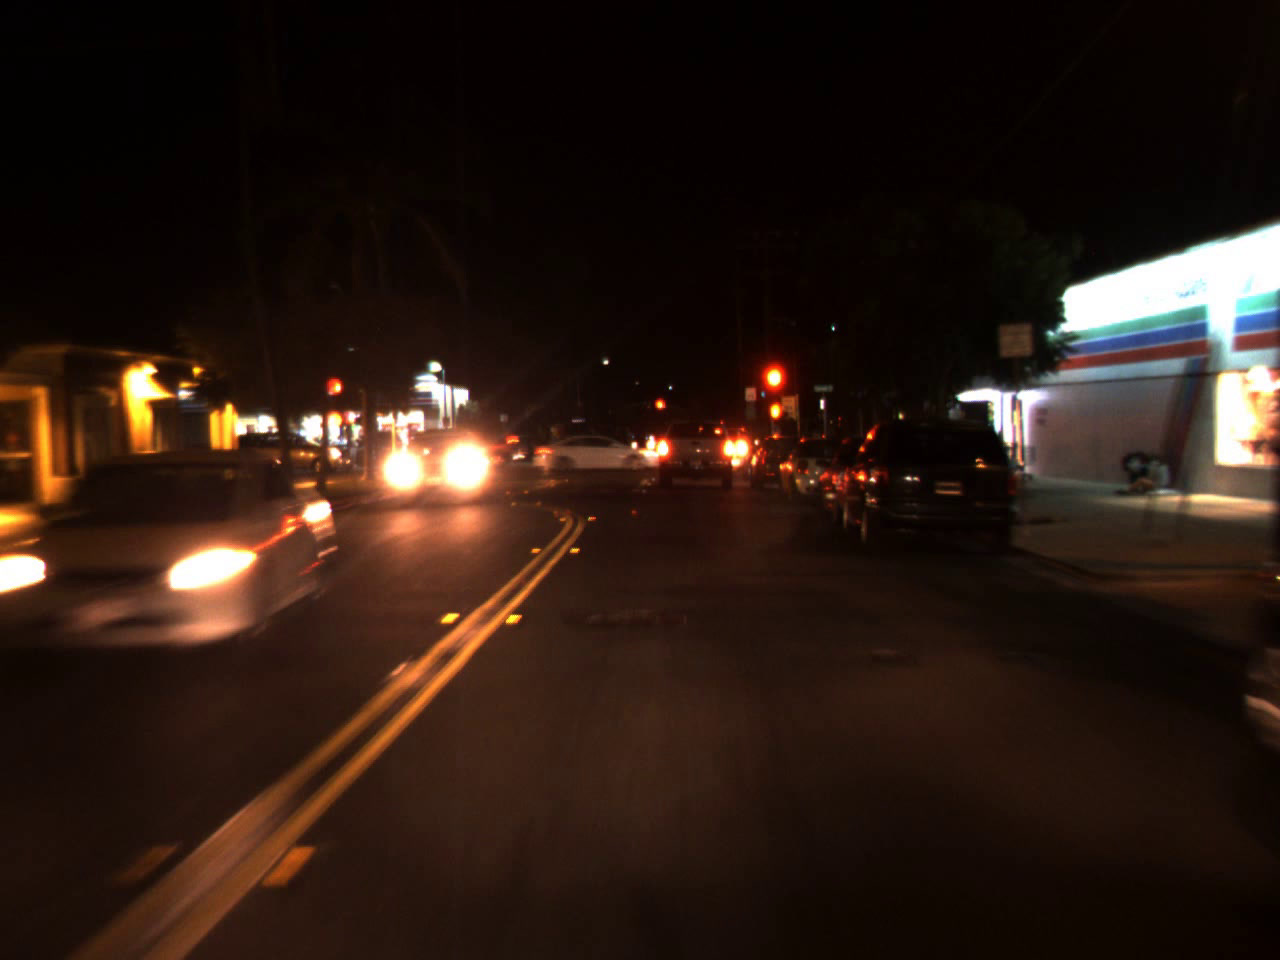stop: (756, 357, 792, 432), (324, 375, 345, 410), (653, 398, 666, 419)
